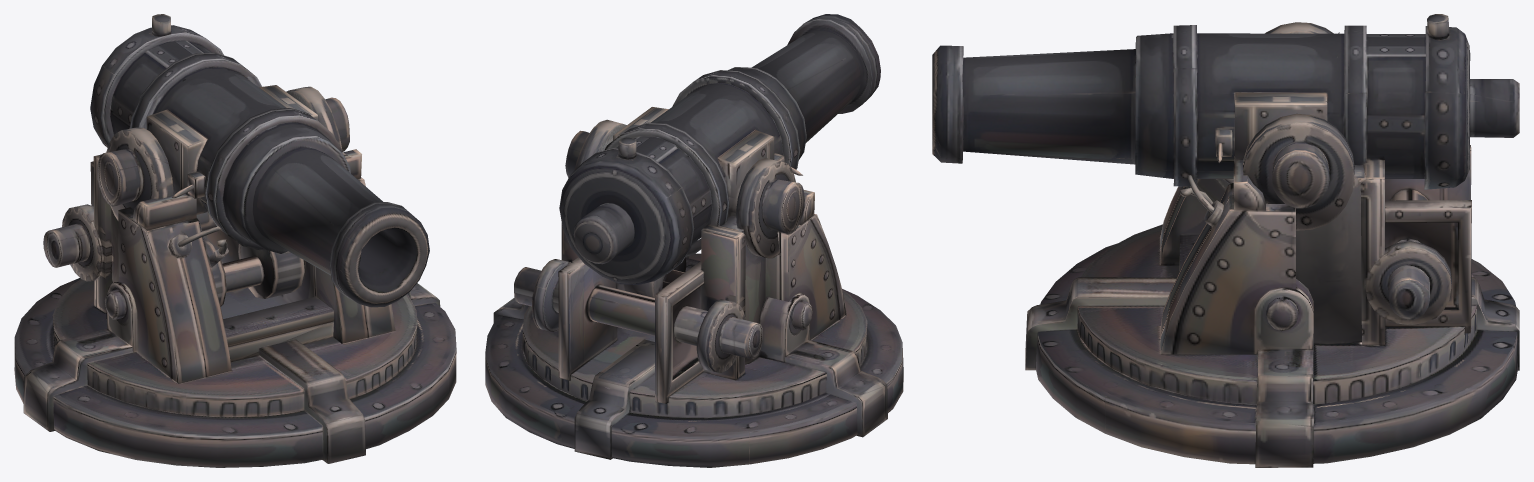
The model's file is meshy-b-3000.glb.
3 renders of one model, left to right at view 1: azimuth 30°, elevation 25°; view 2: azimuth 150°, elevation 25°; view 3: azimuth 270°, elevation 25°, orthographic. The views are drawn at different scales.
Size of the model in its own units: 0.8584 by 0.6435 by 1.
1 material, 1 textured.
